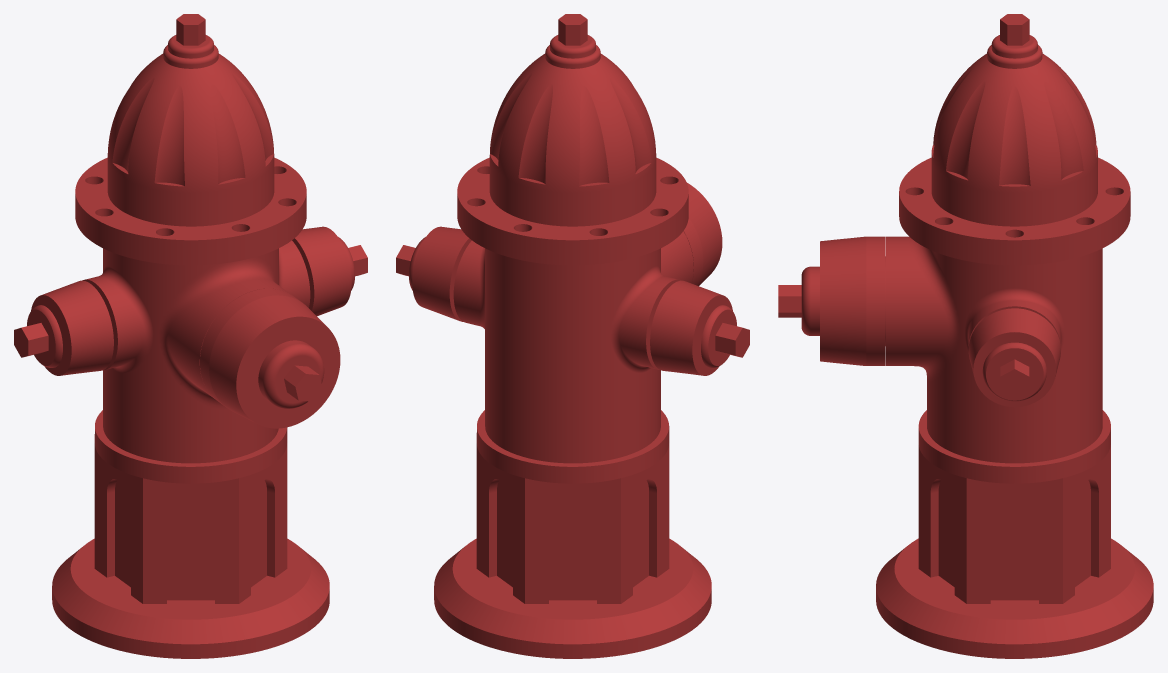
Rendered from fire-hydrant.glb.
3 views of the same model, side by side, from view 1: azimuth 30°, elevation 25°; view 2: azimuth 150°, elevation 25°; view 3: azimuth 270°, elevation 25° (orthographic).
Visible parts, largest first — view 1: FireHydrant Body-1 (×3), FireHydrant Top-1, FireHydrant Side2-1; view 2: FireHydrant Body-1 (×3), FireHydrant Top-1, FireHydrant Side2-1; view 3: FireHydrant Body-1 (×2), FireHydrant Top-1, FireHydrant Side2-1.
Boxes of the visible parts, box(x1,y1,x2,y2) form: FireHydrant Body-1 (×3): box(14, 202, 367, 658); FireHydrant Top-1: box(75, 14, 306, 248); FireHydrant Side2-1: box(200, 288, 340, 428); FireHydrant Body-1 (×3): box(396, 202, 749, 658); FireHydrant Top-1: box(457, 14, 688, 248); FireHydrant Side2-1: box(683, 183, 722, 285); FireHydrant Body-1 (×2): box(876, 200, 1153, 658); FireHydrant Top-1: box(899, 14, 1130, 248); FireHydrant Side2-1: box(778, 236, 885, 365).
Bounding box in the file's own units: 0.1076 × 0.1759 × 0.1029.
